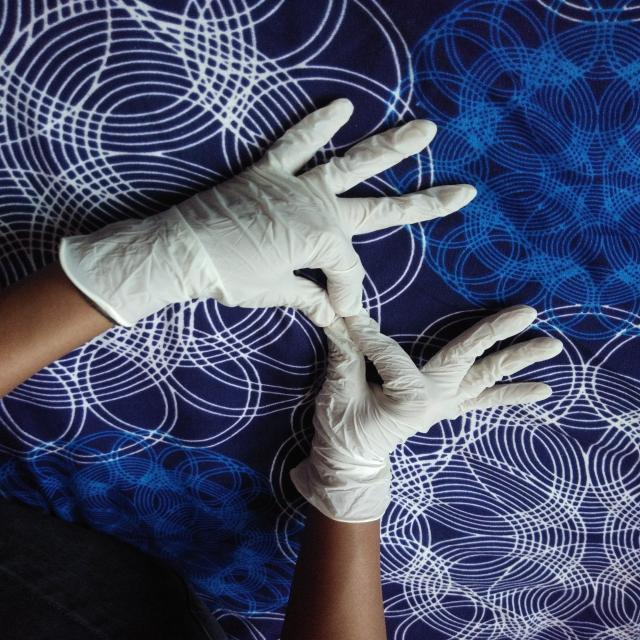gloved_hand: (44, 94, 486, 328), (282, 290, 564, 529)
